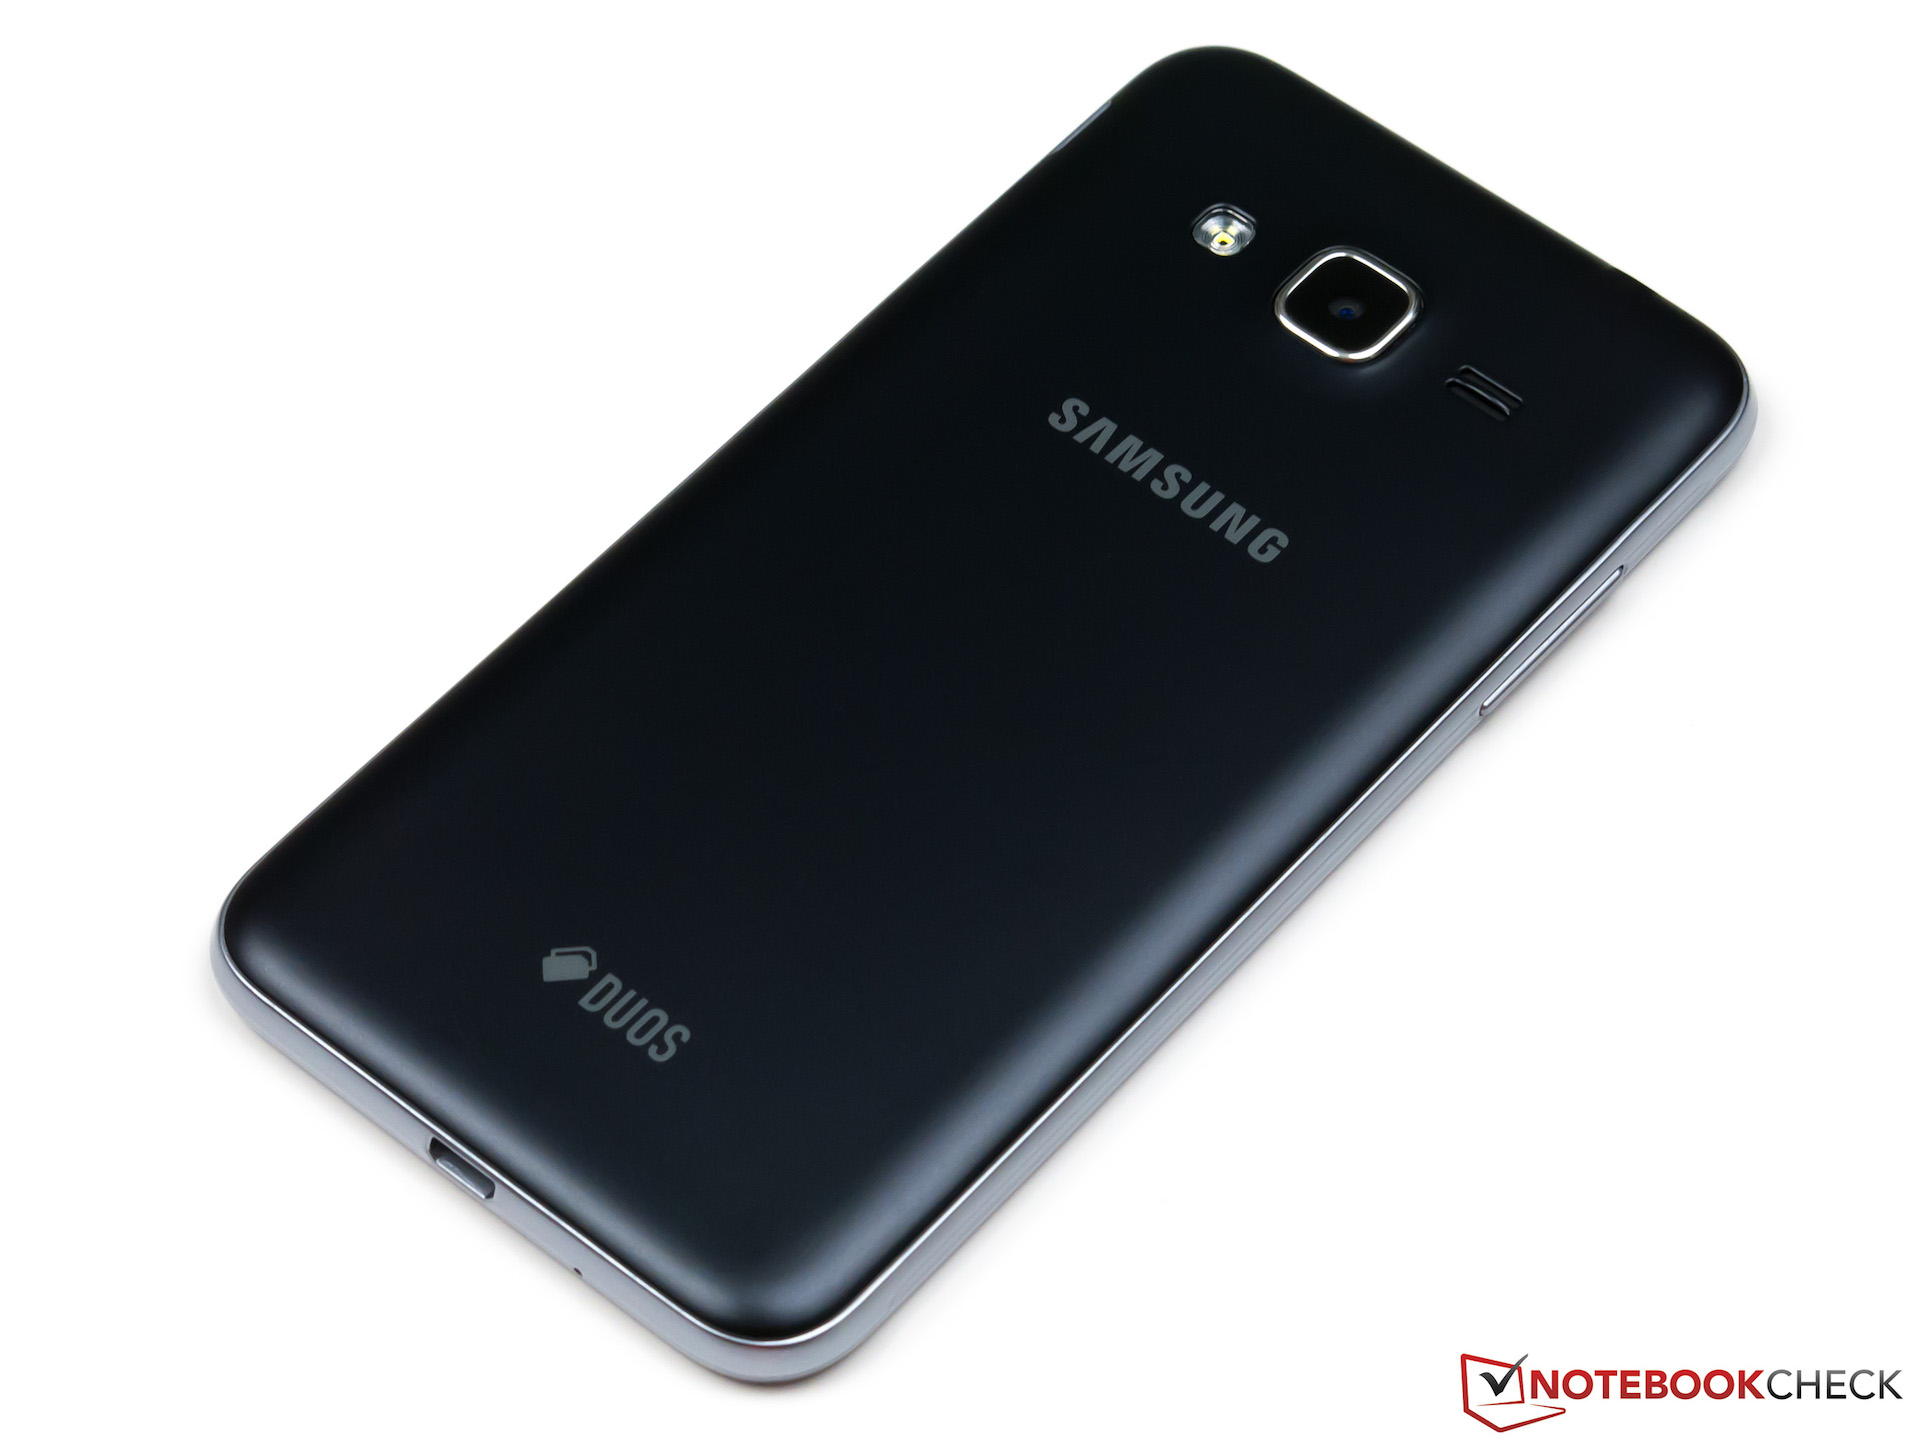smartphone: (207, 45, 1760, 1392)
